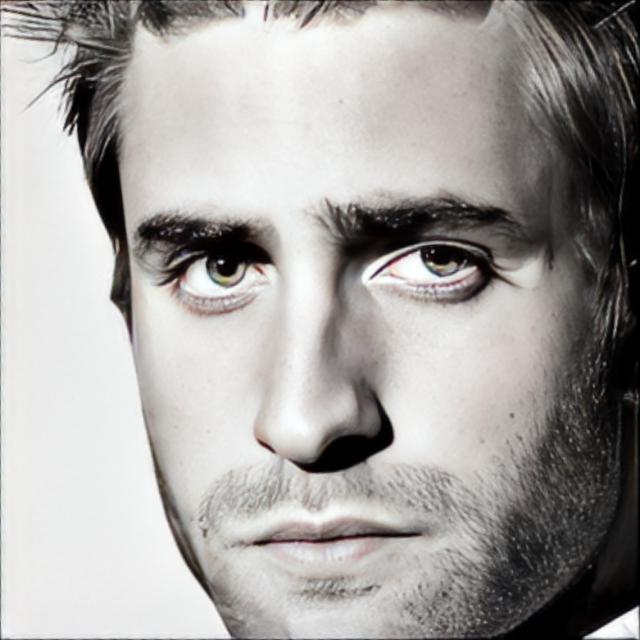neutral: (119, 0, 626, 639)
